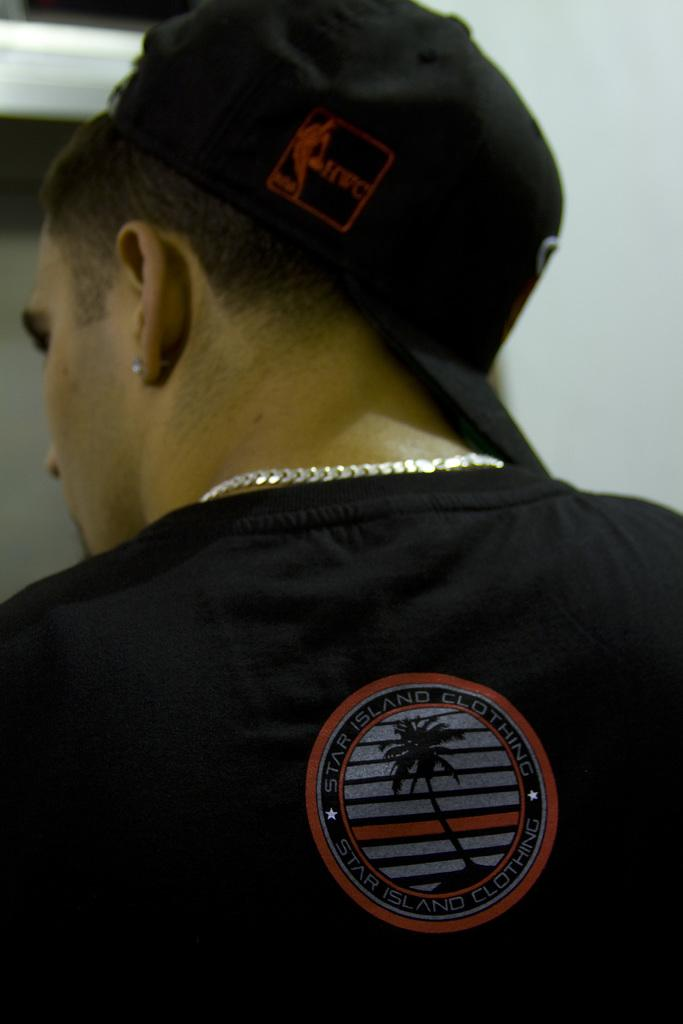Hat: (106, 0, 565, 476)
